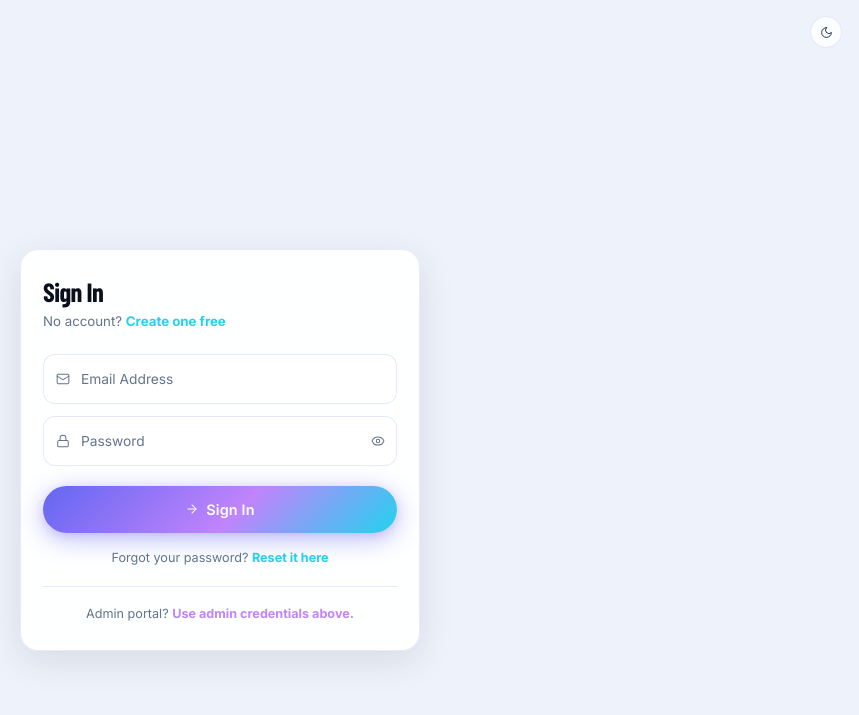
Test: LoginForm › shows API error message on login failure
In the field with id "login-email": (220, 378) [43,354,397,404], type "bad@b.com"
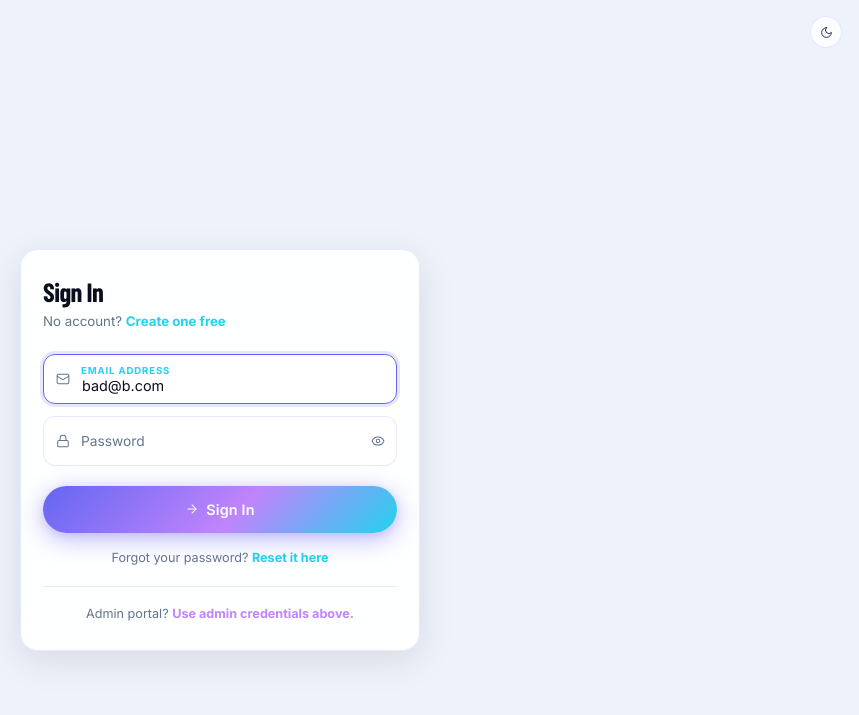
In the password field with id "login-pw": (220, 440) [43,416,397,466], type "wrongpw"
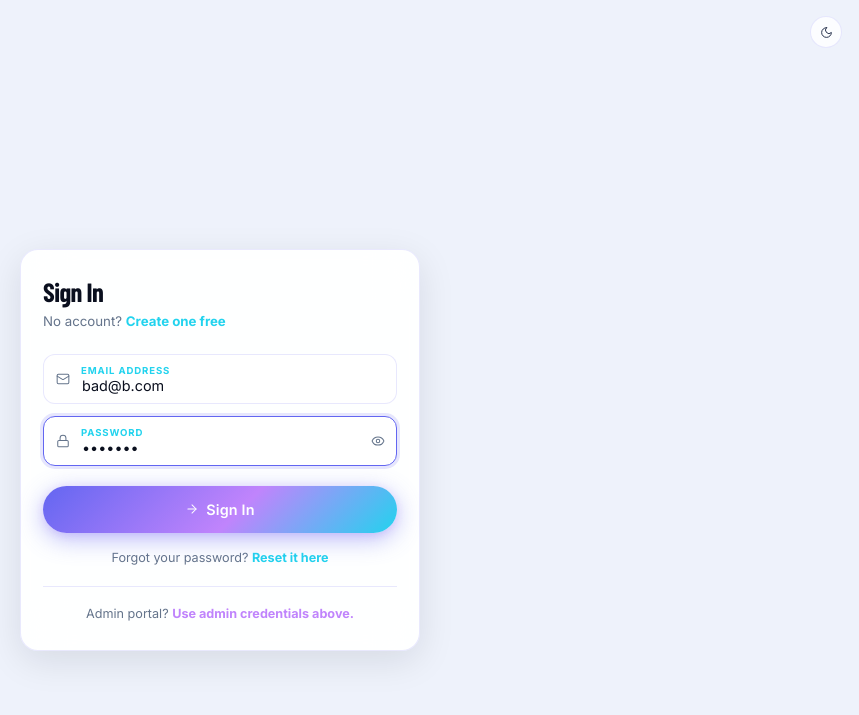
Click the button "Sign In": (220, 509) [43,486,397,533]
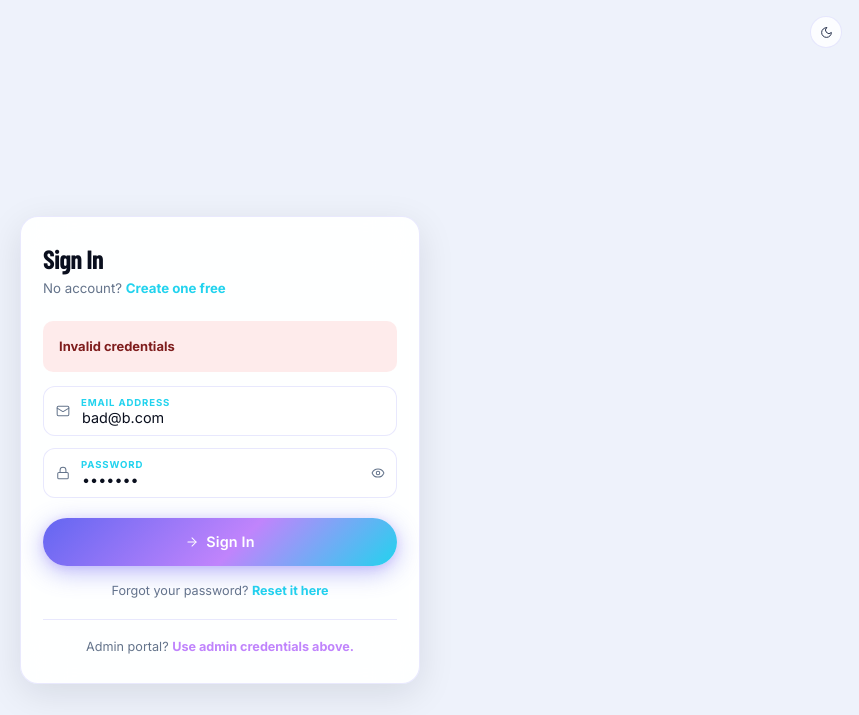
expect the text "Invalid credentials" is shown: met, box [43,321,397,372]
